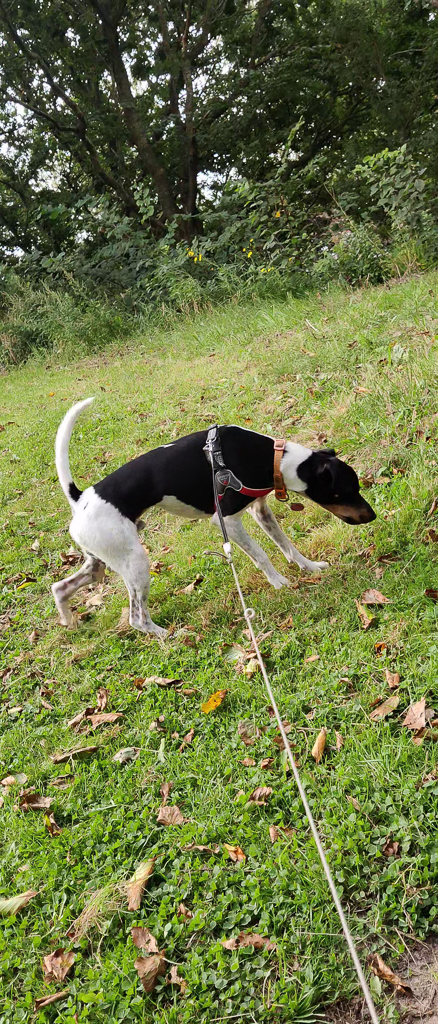Dog: (38, 377, 384, 647)
